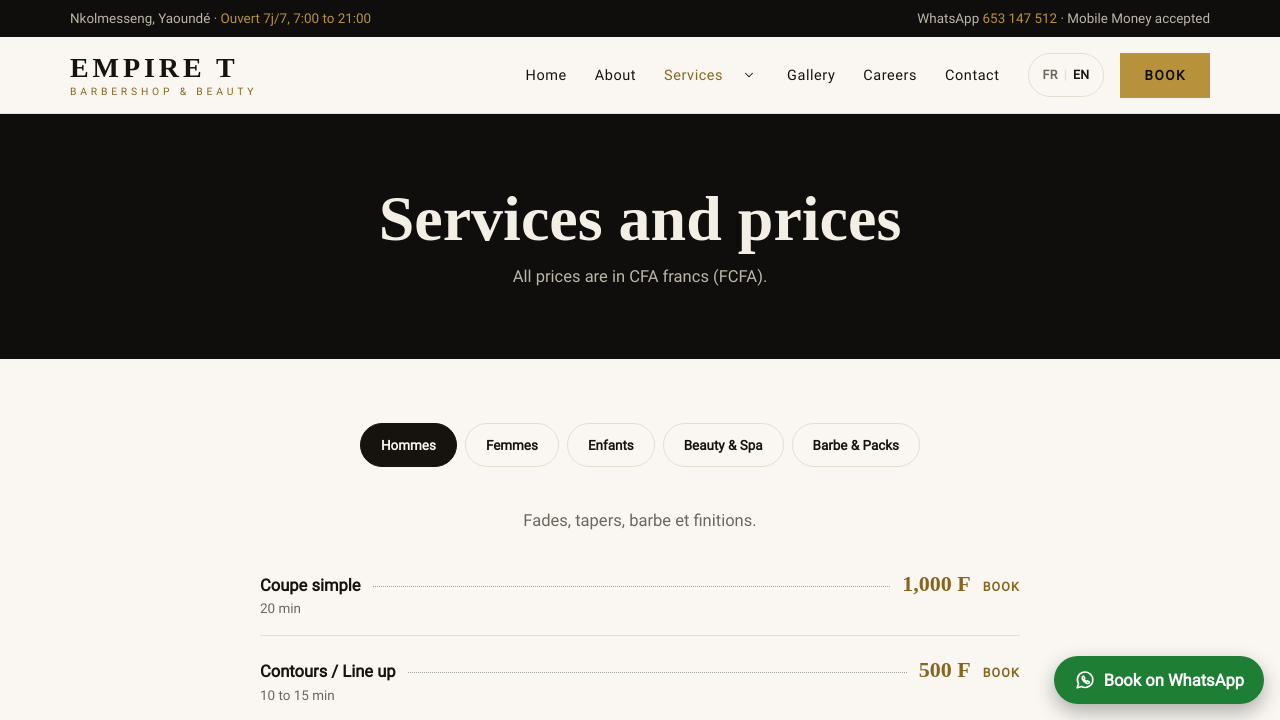
Test: services page › defaults to the first category and switches tabs through the URL
What coordinates should you click on to do the following:
click the link "Enfants"
I would click on:
 (611, 445)
Its box is [567,423,655,467].
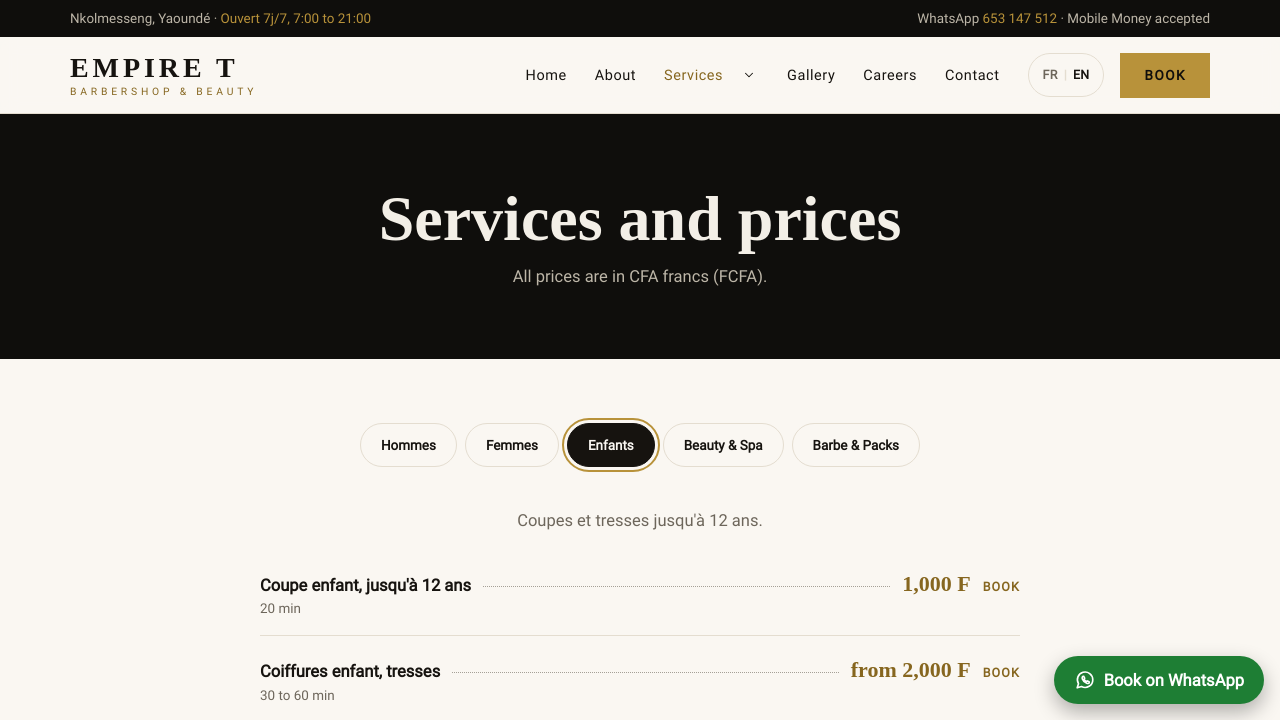
Check: the text "Coupe enfant, jusqu'à 12 ans" is shown, box [260,572,471,598]
